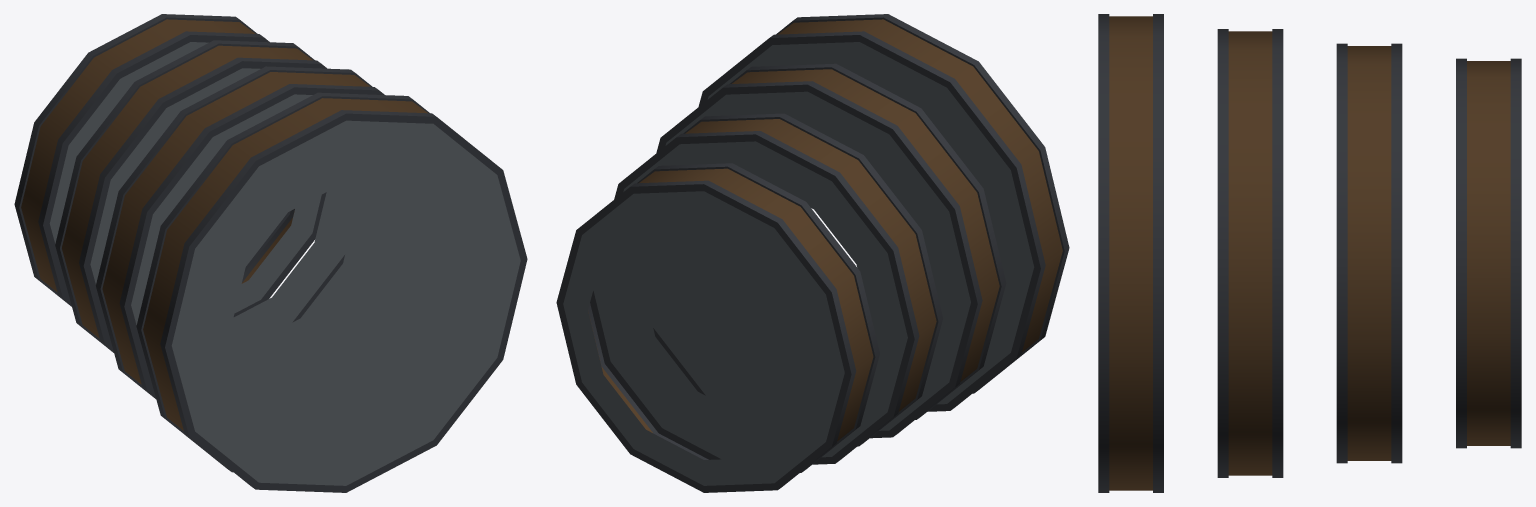
Rendered from n1_coil_stack.obj.
3 renders of one model, left to right at view 1: azimuth 30°, elevation 25°; view 2: azimuth 150°, elevation 25°; view 3: azimuth 270°, elevation 25°, orthographic. The views are drawn at different scales.
Parts seen in each view (by area): view 1: n1_coil_stack; view 2: n1_coil_stack; view 3: n1_coil_stack.
Boxes of the visible parts, x1,y1,x2,y2 form: n1_coil_stack: (14, 14, 527, 492); n1_coil_stack: (556, 14, 1069, 492); n1_coil_stack: (1098, 14, 1521, 492).
Size of the model in its own units: 4.84 by 4.84 by 4.26.
